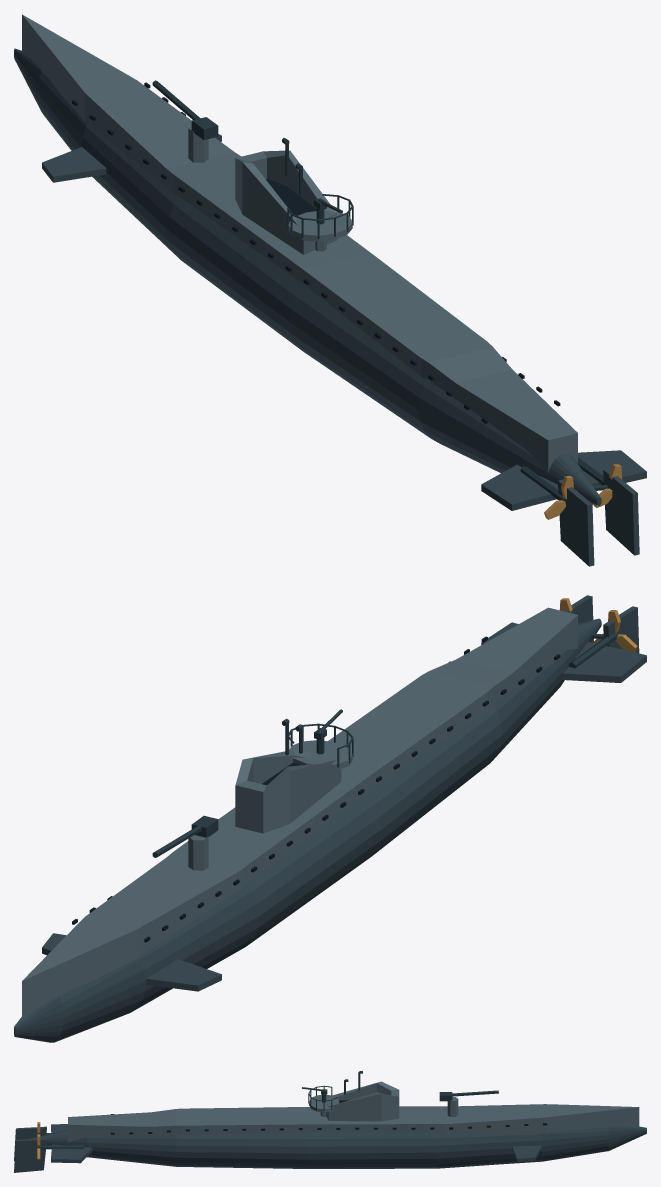
The model's file is archive-type-viic.glb.
3 views of the same model, one above another, from view 1: azimuth 30°, elevation 25°; view 2: azimuth 150°, elevation 25°; view 3: azimuth 270°, elevation 25° (orthographic). The views are drawn at different scales.
Parts seen in each view (by area): view 1: archive-type-viic-cruise_deck.001-geometry, archive-type-viic-pressure_hull.001-geometry, archive-type-viic-submarine_sail.001-geometry, archive-type-viic-steering_rudder_1-geometry, archive-type-viic-early_aa_platform-geometry, archive-type-viic-steering_rudder_-1-geometry, archive-type-viic-stern_plane_-1.001-geometry, archive-type-viic-diving_plane_-1.001-geometry, archive-type-viic-deck_gun-geometry, archive-type-viic-stern_plane_1.001-geometry, archive-type-viic-archive-type-viic-geometry, archive-type-viic-screw_0.001-geometry; view 2: archive-type-viic-cruise_deck.001-geometry, archive-type-viic-pressure_hull.001-geometry, archive-type-viic-submarine_sail.001-geometry, archive-type-viic-stern_plane_-1.001-geometry, archive-type-viic-early_aa_platform-geometry, archive-type-viic-diving_plane_-1.001-geometry, archive-type-viic-deck_gun-geometry, archive-type-viic-steering_rudder_-1-geometry, archive-type-viic-screw_0.001-geometry, archive-type-viic-archive-type-viic-geometry; view 3: archive-type-viic-pressure_hull.001-geometry, archive-type-viic-cruise_deck.001-geometry, archive-type-viic-submarine_sail.001-geometry, archive-type-viic-steering_rudder_1-geometry, archive-type-viic-early_aa_platform-geometry, archive-type-viic-stern_plane_1.001-geometry, archive-type-viic-deck_gun-geometry, archive-type-viic-diving_plane_1.001-geometry, archive-type-viic-steering_rudder_-1-geometry, archive-type-viic-archive-type-viic-geometry, archive-type-viic-screw_1.001-geometry.
Part boxes in pixels (box(x1,y1,x2,y2)): archive-type-viic-cruise_deck.001-geometry: box(22, 14, 577, 474); archive-type-viic-pressure_hull.001-geometry: box(14, 48, 601, 505); archive-type-viic-submarine_sail.001-geometry: box(235, 138, 336, 254); archive-type-viic-steering_rudder_1-geometry: box(593, 468, 639, 555); archive-type-viic-early_aa_platform-geometry: box(287, 194, 353, 251); archive-type-viic-steering_rudder_-1-geometry: box(558, 479, 594, 566); archive-type-viic-stern_plane_-1.001-geometry: box(481, 465, 558, 510); archive-type-viic-diving_plane_-1.001-geometry: box(42, 147, 106, 182); archive-type-viic-deck_gun-geometry: box(152, 80, 218, 162); archive-type-viic-stern_plane_1.001-geometry: box(578, 450, 646, 486); archive-type-viic-archive-type-viic-geometry: box(72, 82, 560, 423); archive-type-viic-screw_0.001-geometry: box(520, 466, 573, 519); archive-type-viic-cruise_deck.001-geometry: box(22, 607, 577, 1017); archive-type-viic-pressure_hull.001-geometry: box(14, 618, 601, 1042); archive-type-viic-submarine_sail.001-geometry: box(235, 719, 341, 833); archive-type-viic-stern_plane_-1.001-geometry: box(562, 642, 646, 682); archive-type-viic-early_aa_platform-geometry: box(289, 709, 353, 770); archive-type-viic-diving_plane_-1.001-geometry: box(146, 959, 221, 991); archive-type-viic-deck_gun-geometry: box(152, 815, 218, 870); archive-type-viic-steering_rudder_-1-geometry: box(591, 606, 639, 653); archive-type-viic-screw_0.001-geometry: box(569, 610, 637, 668); archive-type-viic-archive-type-viic-geometry: box(72, 636, 560, 942); archive-type-viic-pressure_hull.001-geometry: box(30, 1126, 646, 1168); archive-type-viic-cruise_deck.001-geometry: box(68, 1104, 639, 1142); archive-type-viic-submarine_sail.001-geometry: box(326, 1071, 399, 1121); archive-type-viic-steering_rudder_1-geometry: box(14, 1138, 46, 1172); archive-type-viic-early_aa_platform-geometry: box(302, 1085, 339, 1116); archive-type-viic-stern_plane_1.001-geometry: box(51, 1144, 92, 1163); archive-type-viic-deck_gun-geometry: box(439, 1090, 498, 1116); archive-type-viic-diving_plane_1.001-geometry: box(512, 1145, 541, 1161); archive-type-viic-steering_rudder_-1-geometry: box(14, 1126, 46, 1161); archive-type-viic-archive-type-viic-geometry: box(110, 1114, 547, 1134); archive-type-viic-screw_1.001-geometry: box(37, 1134, 83, 1159).
Bounding box in the file's own units: 1.62 × 1.66 × 9.95.
